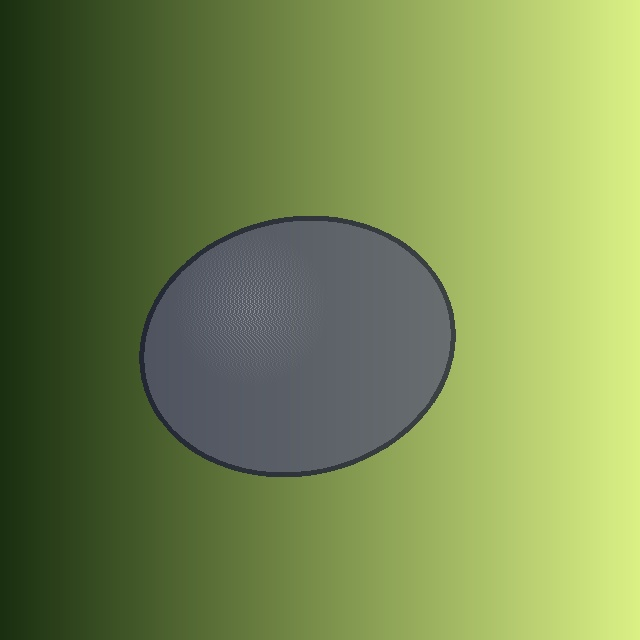lens: (142, 218, 452, 474)
